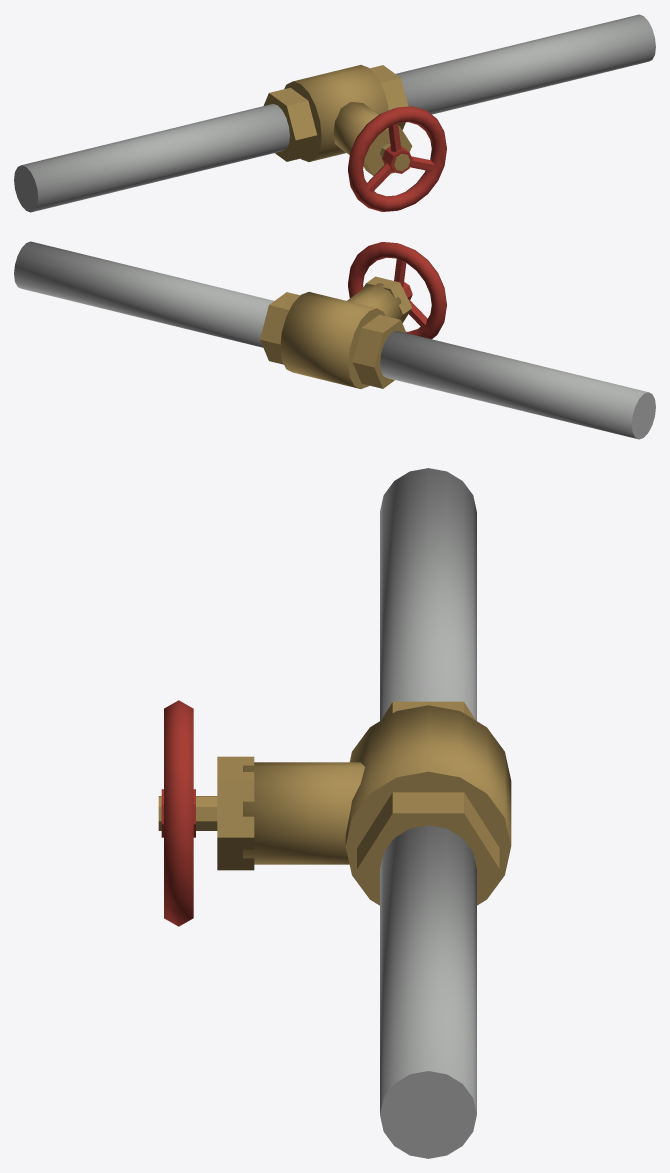
The model's file is valve_closed_ew.obj.
The picture shows the model from 3 angles, top to bottom: view 1: azimuth 30°, elevation 25°; view 2: azimuth 150°, elevation 25°; view 3: azimuth 270°, elevation 25°; orthographic projection. The views are drawn at different scales.
Parts seen in each view (by area): view 1: pipe8, pipe2, valve_wheel, valve_body, valve_hex8, valve_bonnet, valve_hex2, valve_nut, valve_hub, valve_spoke1; view 2: pipe8, pipe2, valve_body, valve_wheel, valve_hex8, valve_hex2, valve_bonnet, valve_nut; view 3: pipe2, pipe8, valve_body, valve_bonnet, valve_hex2, valve_wheel, valve_nut.
Boxes of the visible parts, x1,y1,x2,y2 form: pipe8: (14,104,289,212); pipe2: (396,14,655,114); valve_wheel: (348,106,446,211); valve_body: (284,65,388,161); valve_hex8: (263,87,317,161); valve_bonnet: (333,102,378,154); valve_hex2: (370,65,408,129); valve_nut: (363,125,412,175); valve_hub: (382,146,412,173); valve_spoke1: (367,163,392,192); pipe8: (380,331,655,439); pipe2: (14,241,273,347); valve_body: (280,292,385,388); valve_wheel: (348,242,446,339); valve_hex8: (352,314,406,388); valve_hex2: (260,292,299,364); valve_bonnet: (347,283,401,319); valve_nut: (362,276,412,322); pipe2: (380,825,476,1158); pipe8: (380,468,476,720); valve_body: (345,705,511,905); valve_bonnet: (243,762,364,864); valve_hex2: (357,792,499,904); valve_wheel: (164,700,193,926); valve_nut: (217,756,254,870).
Bounding box in the file's own units: 1 × 0.16 × 0.247.
Materials: 3 (3 with a texture image).
